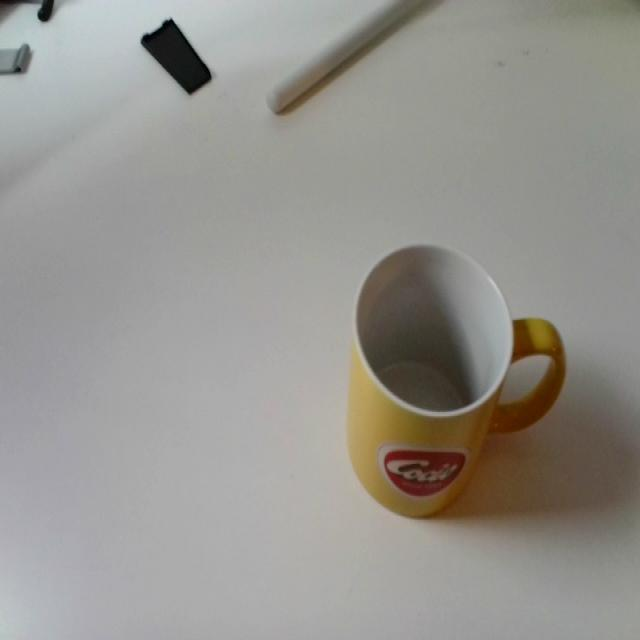cup: (343, 246, 571, 521)
